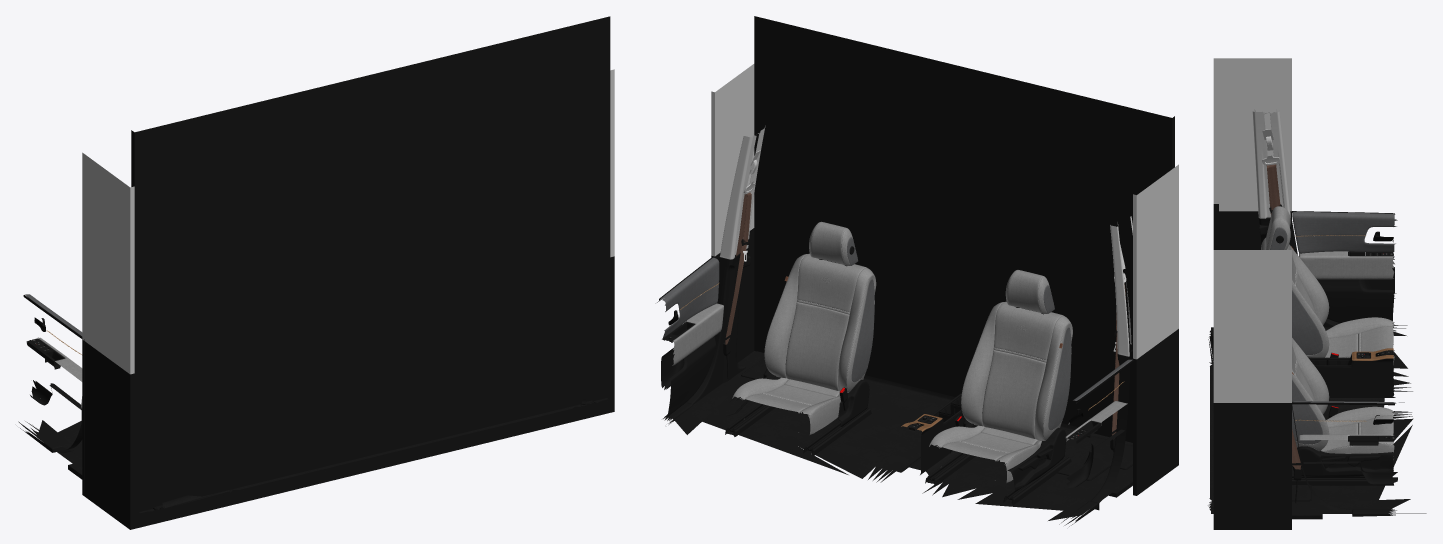
File: cockpit_back.gltf
The picture shows the model from 3 angles, left to right: view 1: azimuth 30°, elevation 25°; view 2: azimuth 150°, elevation 25°; view 3: azimuth 270°, elevation 25°; orthographic projection. The views are drawn at different scales.
Parts seen in each view (by area): view 1: Cockpit_Plastic45_BackC, Cockpit_Plastic45_BackL, Cockpit_WhitePlastic_BackL, Cockpit_InteriorFloor_BackC, Cockpit_InteriorFloor_BackL, Cockpit_WhitePlastic_BackR, Cockpit_Plastic45_BackR; view 2: Cockpit_Plastic45_BackC, Cockpit_WhiteClothCouches_BackR, Cockpit_WhiteClothCouches_BackL, Cockpit_Plastic45_BackL, Cockpit_WhitePlastic_BackL, Cockpit_Plastic45_BackR, Cockpit_WhitePlastic_BackR, Cockpit_InteriorFloor_BackL, Cockpit_InteriorFloor_BackC, Cockpit_InteriorFloor_BackR, Cockpit_GrayClothCouches_BackR, Cockpit_GrayClothCouches_BackL (+2 smaller); view 3: Cockpit_Plastic45_BackR, Cockpit_WhitePlastic_BackR, Cockpit_WhitePlastic_BackL, Cockpit_WhiteClothCouches_BackL, Cockpit_Plastic45_BackL, Cockpit_WhiteClothCouches_BackR, Cockpit_GrayClothCouches_BackL, Cockpit_InteriorFloor_BackR, Cockpit_Plastic45_BackC, Cockpit_GrayClothCouches_BackR, Cockpit_InteriorFloor_BackC, Cockpit_GrayClothCouches_BackC (+4 smaller).
Part boxes in pixels (x1,y1,x2,y2): Cockpit_Plastic45_BackC: (134, 16, 610, 528); Cockpit_Plastic45_BackL: (18, 130, 134, 529); Cockpit_WhitePlastic_BackL: (82, 152, 134, 374); Cockpit_InteriorFloor_BackC: (68, 398, 610, 517); Cockpit_InteriorFloor_BackL: (37, 420, 308, 513); Cockpit_WhitePlastic_BackR: (610, 69, 614, 257); Cockpit_Plastic45_BackR: (610, 256, 614, 412); Cockpit_Plastic45_BackC: (754, 16, 1172, 482); Cockpit_WhiteClothCouches_BackR: (672, 221, 876, 434); Cockpit_WhiteClothCouches_BackL: (929, 270, 1127, 482); Cockpit_Plastic45_BackL: (925, 116, 1178, 526); Cockpit_WhitePlastic_BackL: (1110, 164, 1178, 359); Cockpit_Plastic45_BackR: (661, 228, 868, 455); Cockpit_WhitePlastic_BackR: (711, 64, 765, 259); Cockpit_InteriorFloor_BackL: (922, 423, 1132, 520); Cockpit_InteriorFloor_BackC: (737, 351, 1132, 497); Cockpit_InteriorFloor_BackR: (673, 351, 914, 474); Cockpit_GrayClothCouches_BackR: (655, 237, 874, 339); Cockpit_GrayClothCouches_BackL: (1043, 285, 1132, 430); Cockpit_Plastic45_BackR: (1213, 204, 1426, 529); Cockpit_WhitePlastic_BackR: (1213, 250, 1291, 402); Cockpit_WhitePlastic_BackL: (1213, 58, 1291, 218); Cockpit_WhiteClothCouches_BackL: (1261, 206, 1394, 364); Cockpit_Plastic45_BackL: (1219, 204, 1407, 357); Cockpit_WhiteClothCouches_BackR: (1292, 338, 1394, 459); Cockpit_GrayClothCouches_BackL: (1270, 211, 1397, 311); Cockpit_InteriorFloor_BackR: (1208, 425, 1412, 519); Cockpit_Plastic45_BackC: (1308, 354, 1395, 397); Cockpit_GrayClothCouches_BackR: (1292, 380, 1404, 444); Cockpit_InteriorFloor_BackC: (1210, 394, 1413, 515); Cockpit_GrayClothCouches_BackC: (1292, 311, 1322, 354).
Size of the model in its own units: 2.25 by 1.76 by 1.09.
16 materials, 7 textured.
